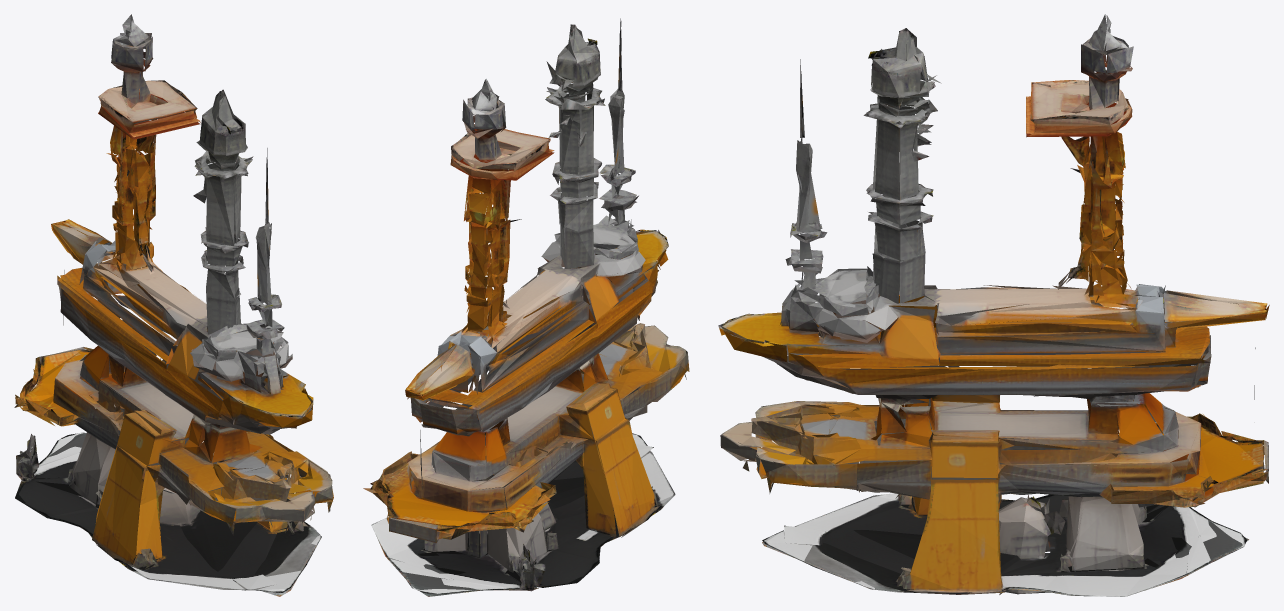
File: alliance_hub_t1.fbx
The picture shows the model from 3 angles, left to right: view 1: azimuth 30°, elevation 25°; view 2: azimuth 150°, elevation 25°; view 3: azimuth 270°, elevation 25°; orthographic projection. The views are drawn at different scales.
Parts seen in each view (by area): view 1: alliance_hub_t1; view 2: alliance_hub_t1; view 3: alliance_hub_t1.
Boxes of the visible parts, x1,y1,x2,y2 form: alliance_hub_t1: (14,14,333,596); alliance_hub_t1: (363,18,689,596); alliance_hub_t1: (718,14,1269,596).
Size of the model in its own units: 1.55 by 3.52 by 3.12.
1 material, 1 textured.
